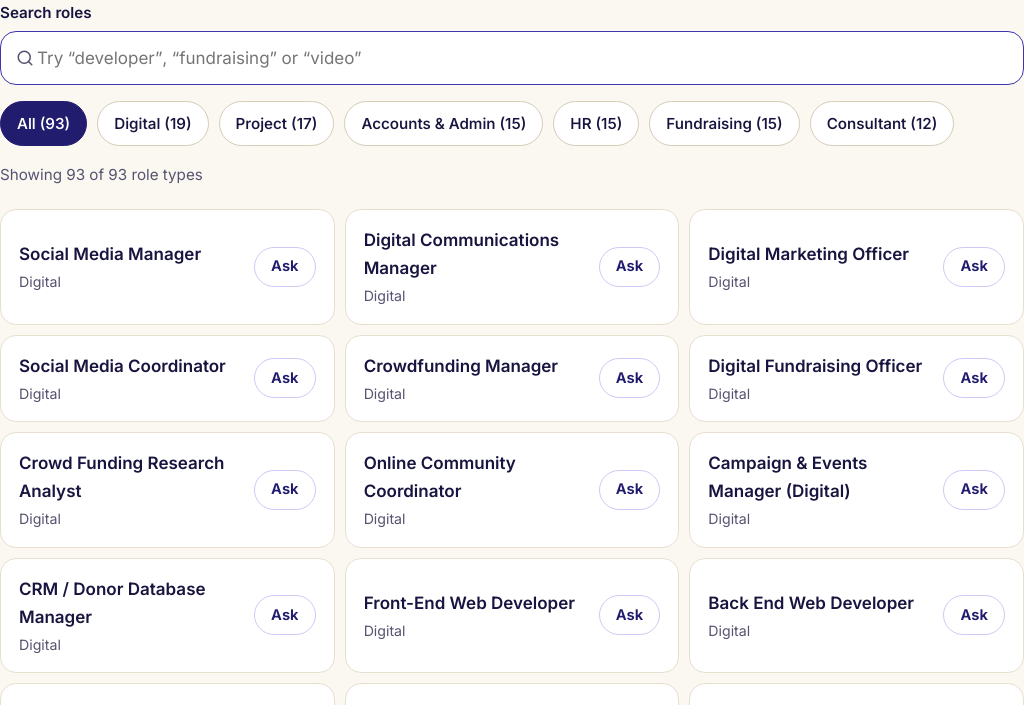
Test: RoleBrowser › shows an empty state
Type "astronaut" into the search field labelled "Search roles".
click(512, 58); type("astronaut")  # box left=0, top=31, right=1023, bottom=85
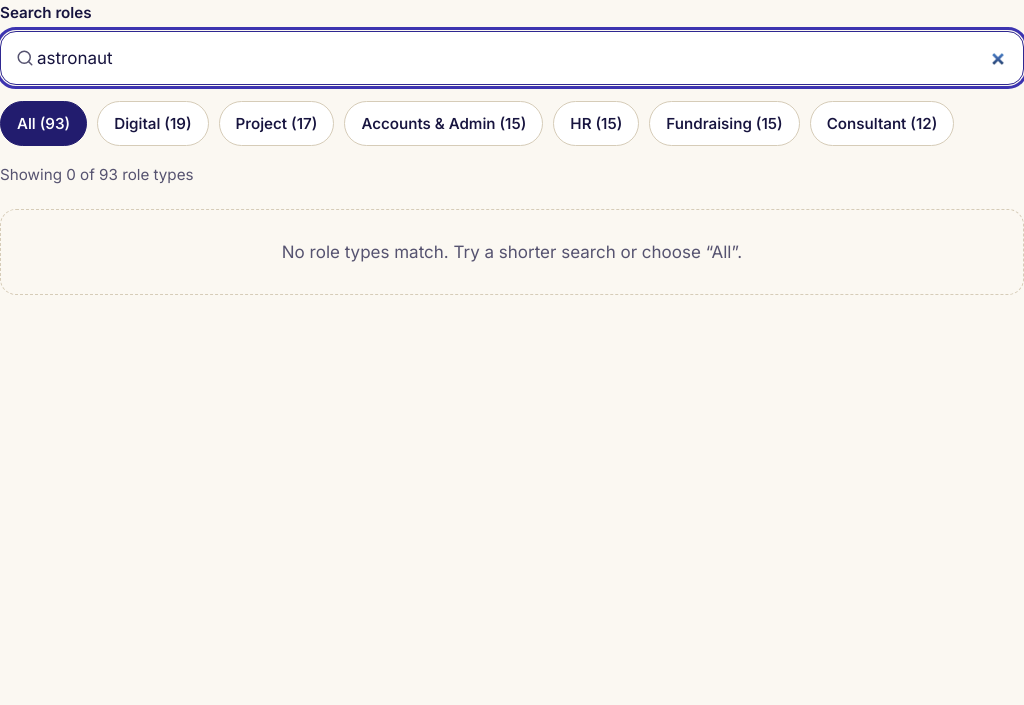
Expected: the text "No role types match. Try a shorter search or choose “All”." is shown, left=0, top=209, right=1023, bottom=295
Expected: the message shows "Showing 0 of", left=0, top=165, right=194, bottom=184
